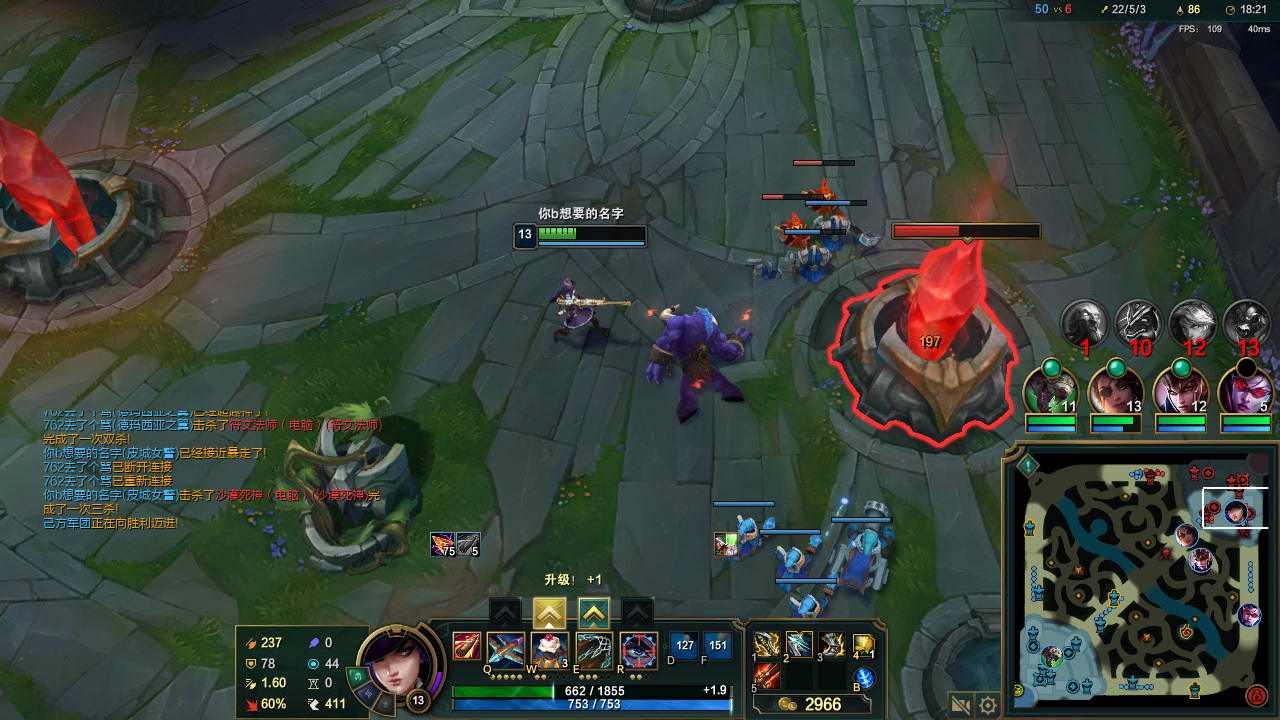DFSJ: (827, 227, 1017, 432)
DFXB: (779, 214, 807, 241), (810, 183, 835, 206)
KF: (792, 636, 806, 651)
Shenji: (581, 602, 604, 625)
Tuijianshengji: (539, 602, 560, 625)
WFXB: (823, 501, 894, 596), (774, 541, 812, 581), (736, 514, 774, 550), (788, 248, 831, 279), (783, 592, 826, 616), (823, 220, 855, 248)
